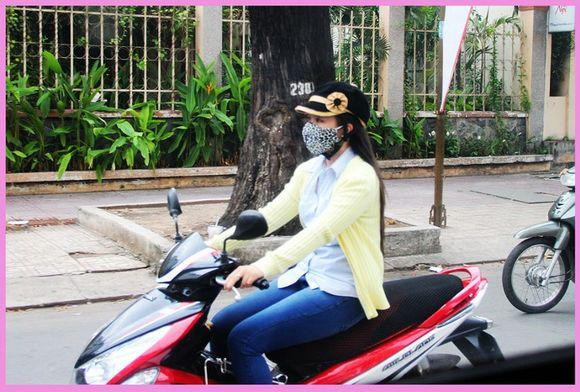OK: (299, 112, 339, 152)
